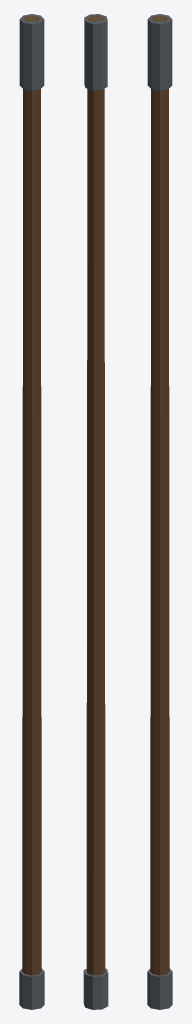
File: g-quarterstaff-shod.glb
The picture shows the model from 3 angles, left to right: view 1: azimuth 90°, elevation 25°; view 2: azimuth 210°, elevation 25°; view 3: azimuth 270°, elevation 25°; orthographic projection.
Parts seen in each view (by area): view 1: g-quarterstaff-shod; view 2: g-quarterstaff-shod; view 3: g-quarterstaff-shod.
Part boxes in pixels (left/top/right/bottom): g-quarterstaff-shod: left=19, top=14, right=44, bottom=1009; g-quarterstaff-shod: left=83, top=14, right=108, bottom=1009; g-quarterstaff-shod: left=147, top=14, right=172, bottom=1009.
Bounding box in the file's own units: 0.0416 × 1.78 × 0.0416.
